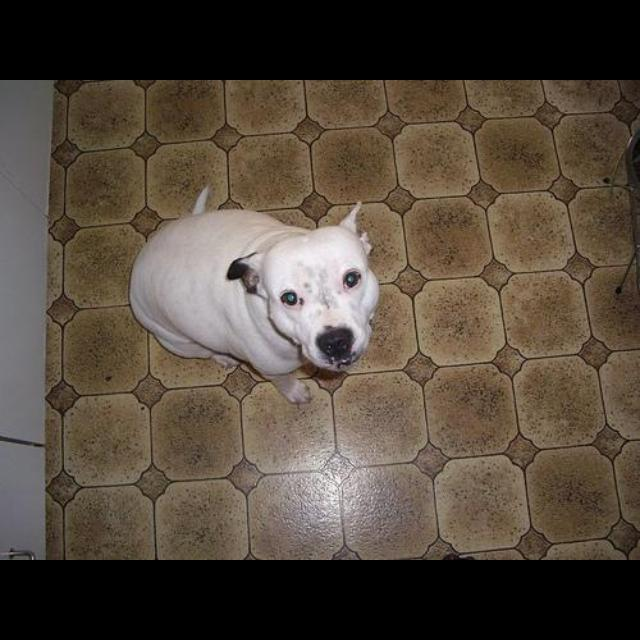staffford: (128, 186, 380, 404)
